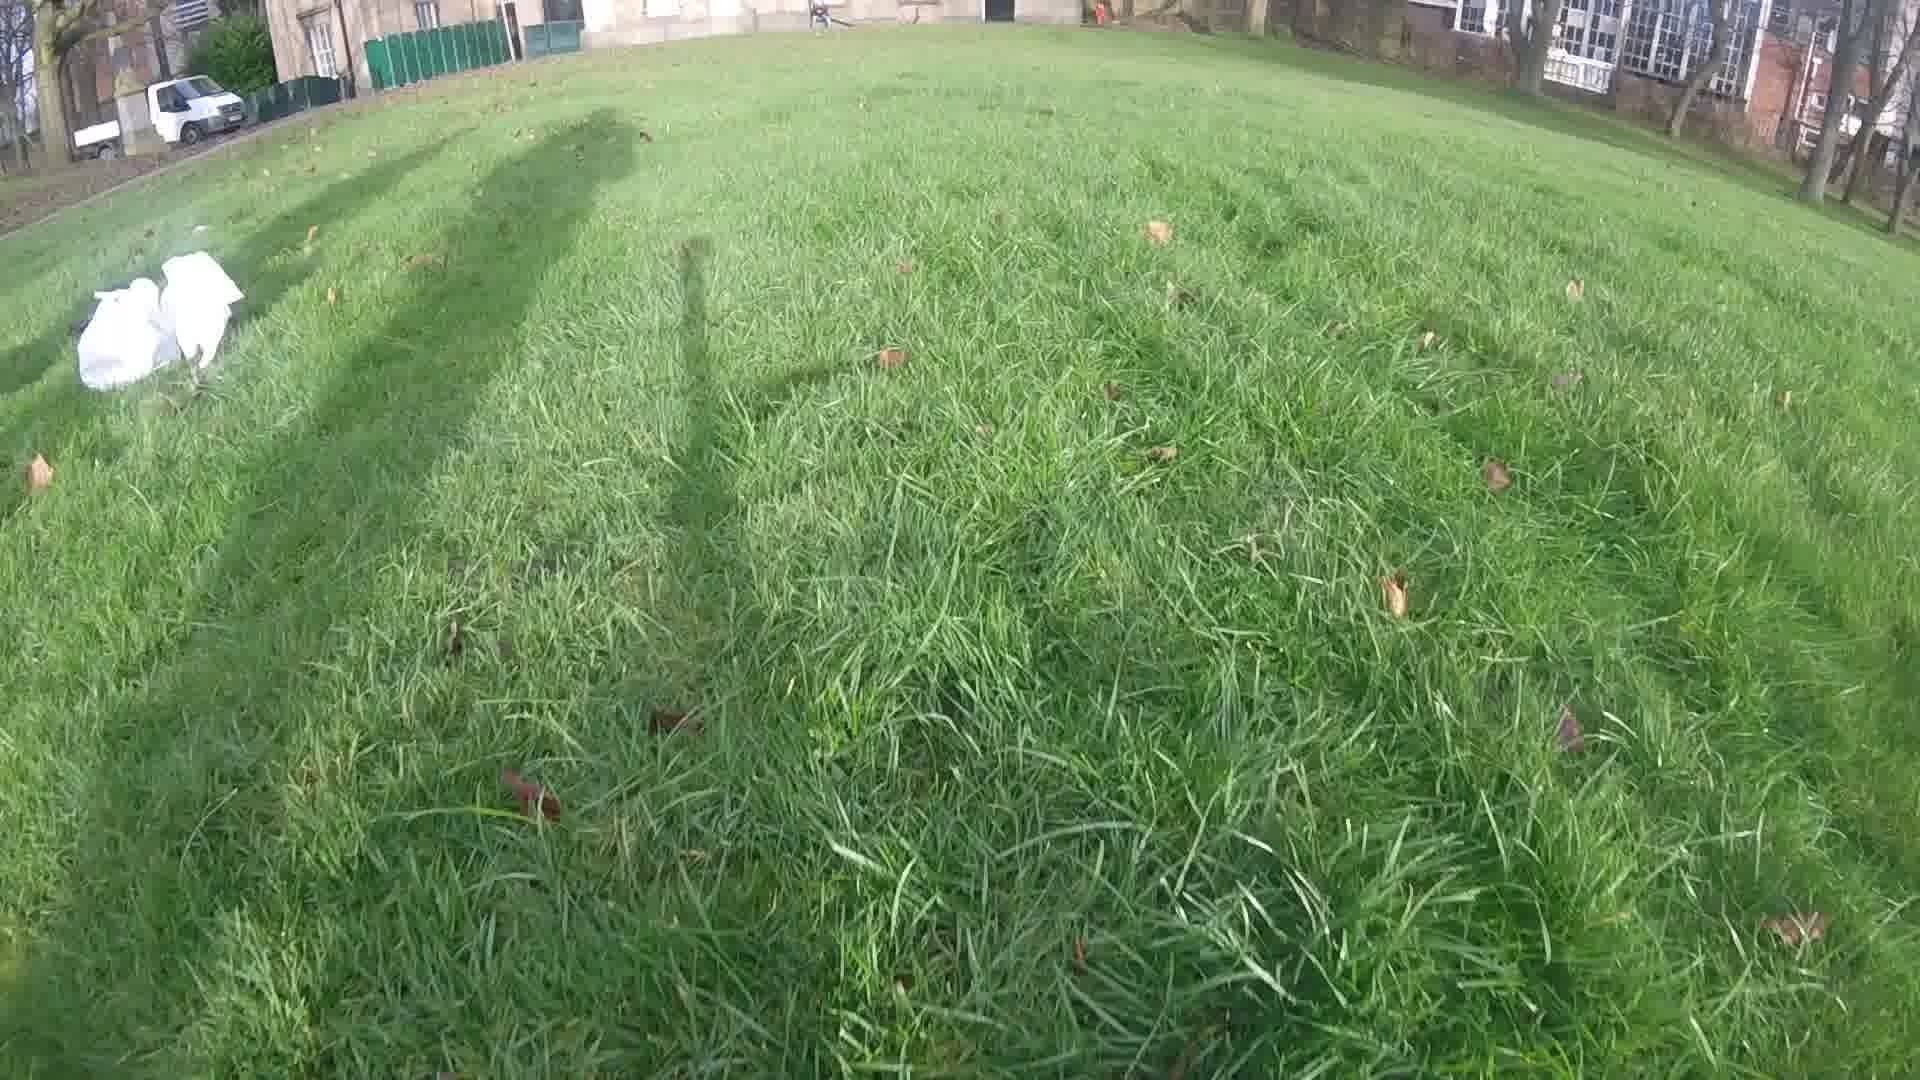litter: (80, 253, 237, 400)
